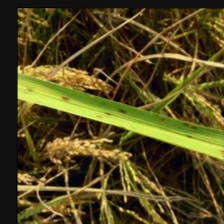Bacterial_Leaf_Blight: (179, 120, 201, 141), (22, 85, 35, 96), (60, 94, 75, 101), (119, 107, 130, 114)
